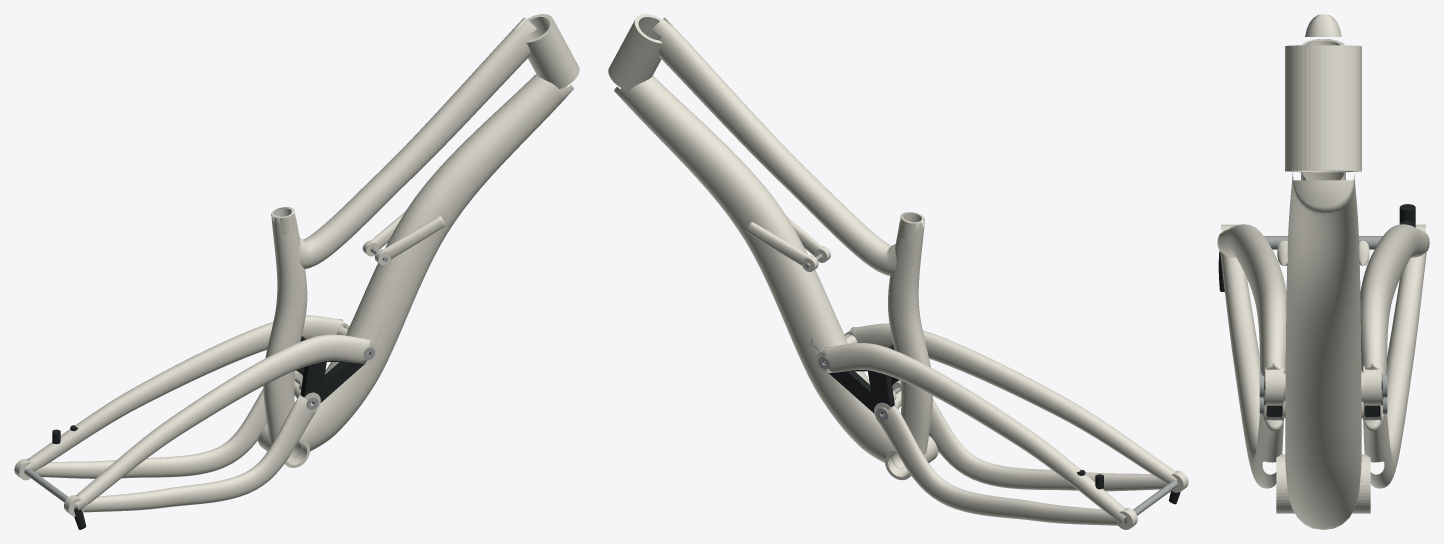
Rendered from yt-tues-mk4-carbon--l.glb.
3 renders of one model, left to right at view 1: azimuth 30°, elevation 25°; view 2: azimuth 150°, elevation 25°; view 3: azimuth 270°, elevation 25°, orthographic. The views are drawn at different scales.
Visible parts, largest first — view 1: yt-tues-mk4-carbon__paint_0, yt-tues-mk4-carbon__detail_1, yt-tues-mk4-carbon__detail_2; view 2: yt-tues-mk4-carbon__paint_0, yt-tues-mk4-carbon__detail_1, yt-tues-mk4-carbon__detail_2; view 3: yt-tues-mk4-carbon__paint_0, yt-tues-mk4-carbon__detail_1, yt-tues-mk4-carbon__detail_2.
Part boxes in pixels (left/top/right/bottom): yt-tues-mk4-carbon__paint_0: left=14, top=14, right=579, bottom=516; yt-tues-mk4-carbon__detail_1: left=52, top=336, right=370, bottom=529; yt-tues-mk4-carbon__detail_2: left=24, top=247, right=388, bottom=508; yt-tues-mk4-carbon__paint_0: left=608, top=14, right=1188, bottom=529; yt-tues-mk4-carbon__detail_1: left=823, top=344, right=1180, bottom=504; yt-tues-mk4-carbon__detail_2: left=804, top=254, right=1178, bottom=524; yt-tues-mk4-carbon__paint_0: left=1217, top=14, right=1429, bottom=529; yt-tues-mk4-carbon__detail_1: left=1218, top=204, right=1415, bottom=416; yt-tues-mk4-carbon__detail_2: left=1259, top=236, right=1387, bottom=413.
Size of the model in its own units: 1.02 by 0.7169 by 0.1863.
Materials: 5 (2 with a texture image).
